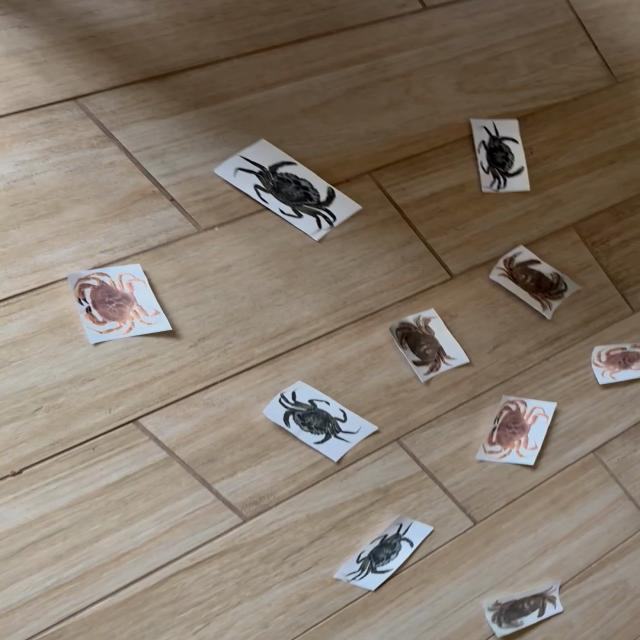egc: (264, 382, 377, 462), (334, 517, 433, 590), (239, 158, 337, 230), (478, 121, 529, 192)
